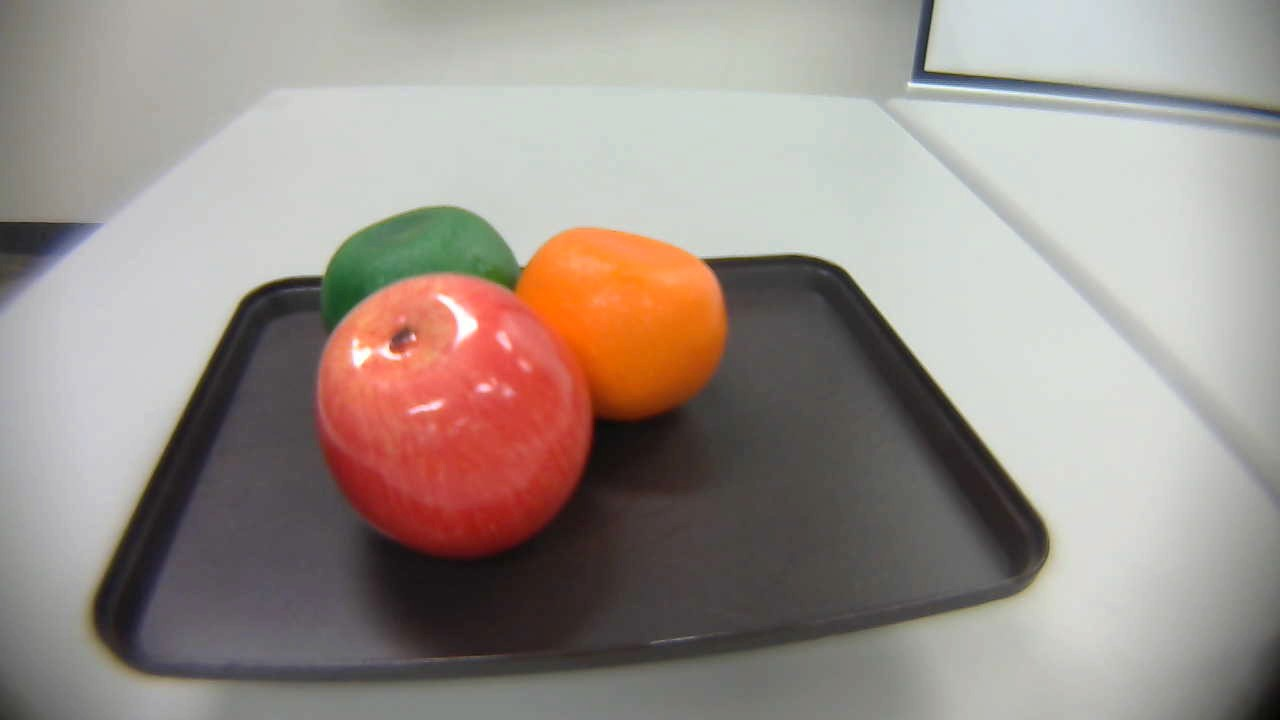green orange: (314, 200, 546, 345)
orange: (505, 227, 743, 435)
red apple: (305, 272, 599, 566)
